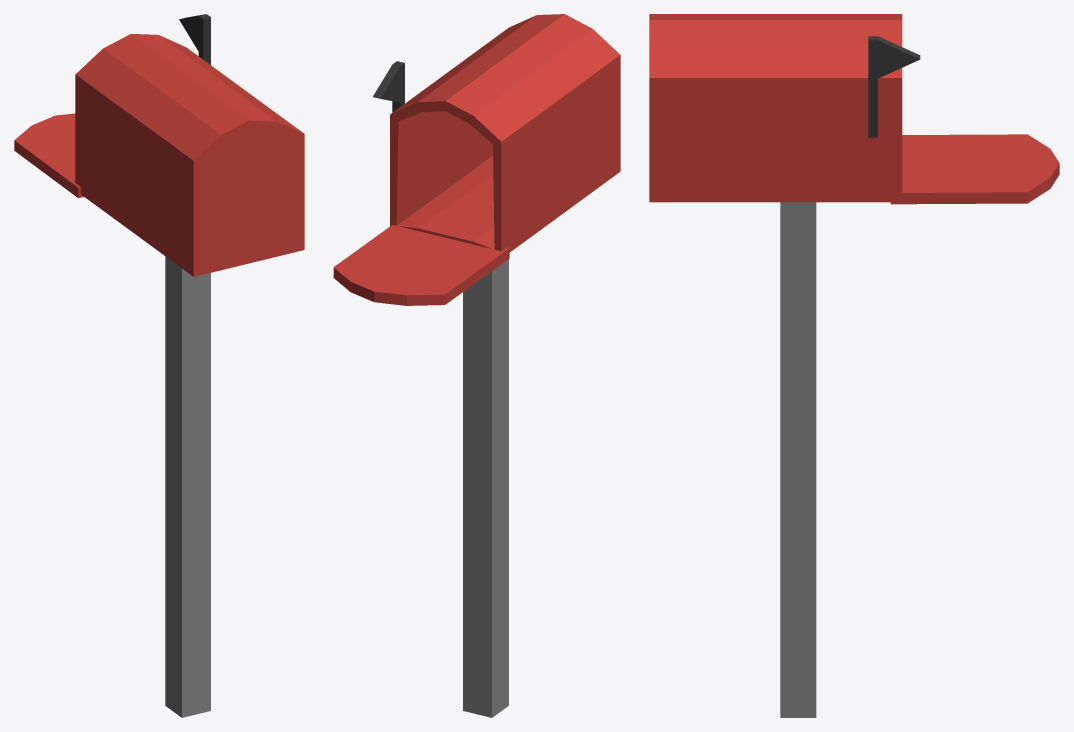
Rendered from mailbox.fbx.
3 views of the same model, side by side, from view 1: azimuth 30°, elevation 25°; view 2: azimuth 150°, elevation 25°; view 3: azimuth 270°, elevation 25° (orthographic). The views are drawn at different scales.
Visible parts, largest first — view 1: body, Stick, Doors, Flag; view 2: body, Stick, Doors, Flag; view 3: body, Stick, Doors, Flag.
Boxes of the visible parts, bbox=[...] form: body: bbox=[75, 34, 304, 276]; Stick: bbox=[165, 256, 210, 717]; Doors: bbox=[14, 113, 83, 198]; Flag: bbox=[179, 14, 210, 64]; body: bbox=[390, 14, 620, 252]; Stick: bbox=[463, 259, 508, 717]; Doors: bbox=[333, 222, 509, 305]; Flag: bbox=[373, 61, 404, 112]; body: bbox=[649, 14, 902, 202]; Stick: bbox=[780, 202, 816, 717]; Doors: bbox=[890, 134, 1059, 204]; Flag: bbox=[868, 36, 920, 137].
Bounding box in the file's own units: 0.411 × 2.1 × 1.12.
